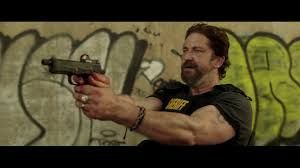gun: (42, 50, 113, 100)
uniform: (147, 70, 257, 143)
